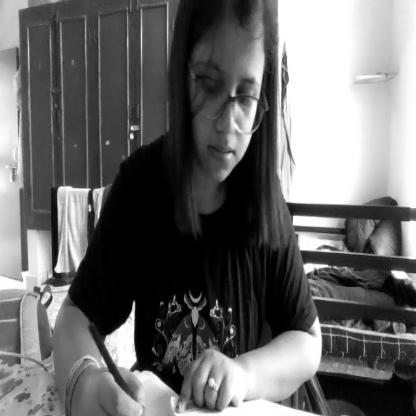Normal: (177, 0, 276, 200)
